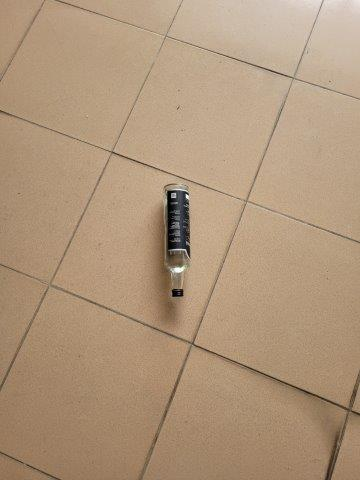botolkaca: (163, 182, 191, 298)
